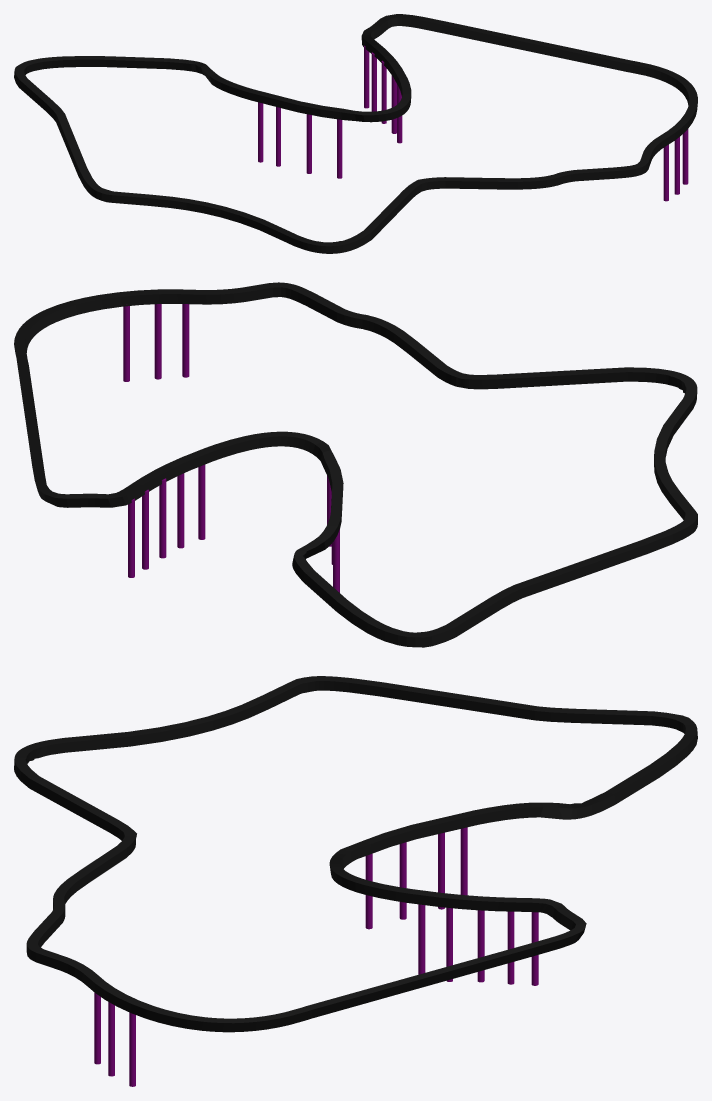
File: TrackFlat.obj
The picture shows the model from 3 angles, top to bottom: view 1: azimuth 30°, elevation 25°; view 2: azimuth 150°, elevation 25°; view 3: azimuth 270°, elevation 25°; orthographic projection. The views are drawn at different scales.
Visible parts, largest first — view 1: Road, Bridges; view 2: Road, Bridges; view 3: Road, Bridges.
Part boxes in pixels (x1,y1,x2,y2): Road: (14,14,697,253); Bridges: (258,45,688,201); Road: (14,282,697,647); Bridges: (123,304,339,592); Road: (14,676,697,1032); Bridges: (94,827,538,1086).
Size of the model in its own units: 380 by 44.59 by 317.
